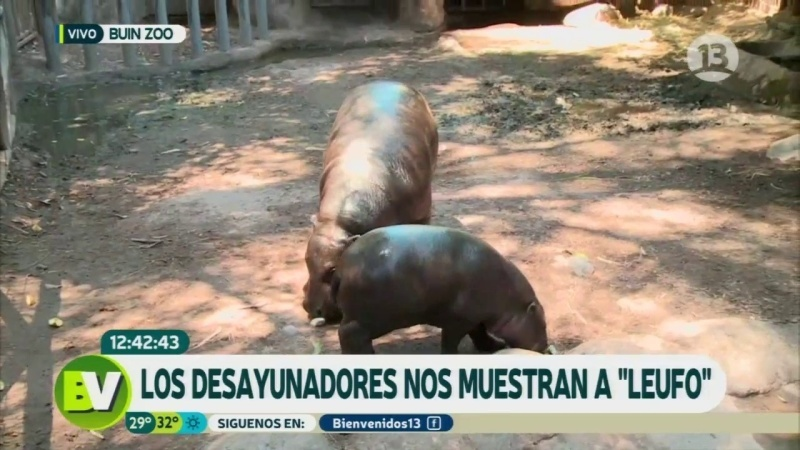hipopotamo: (285, 69, 454, 337), (319, 213, 580, 355)
